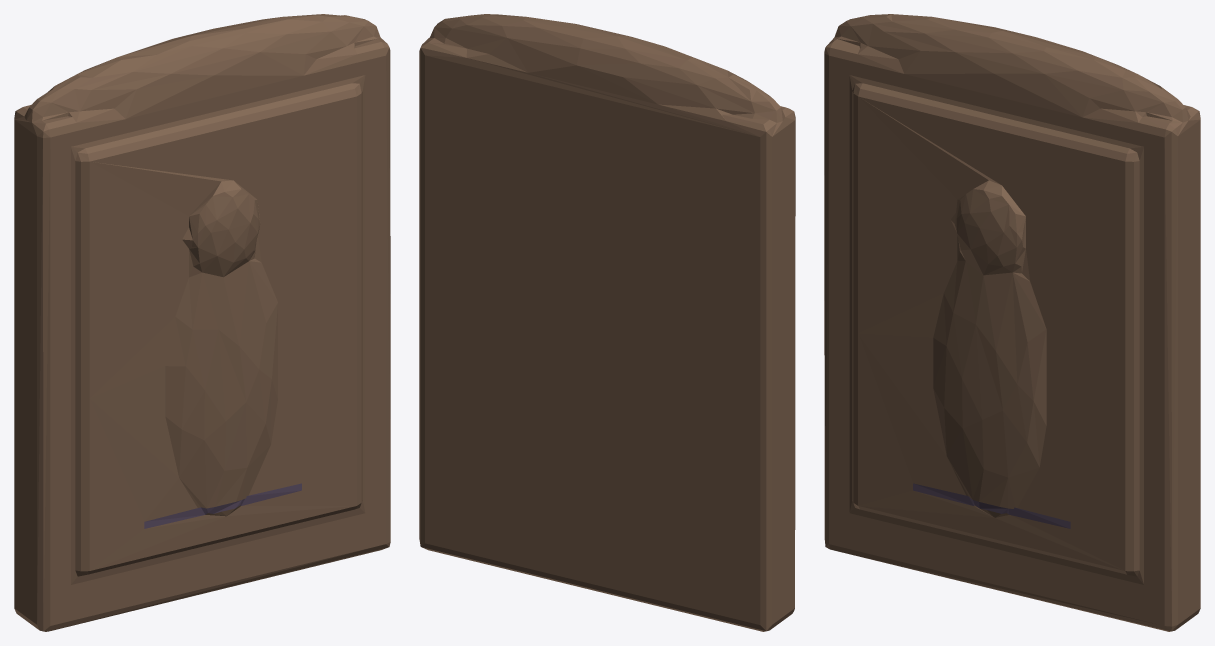
The model's file is memorial_relief.glb.
3 renders of one model, left to right at view 1: azimuth 30°, elevation 25°; view 2: azimuth 150°, elevation 25°; view 3: azimuth 330°, elevation 25°, orthographic.
Parts seen in each view (by area): view 1: memorial_relief; view 2: memorial_relief; view 3: memorial_relief.
Part boxes in pixels (x1=…): memorial_relief: x1=14, y1=14, x2=390, y2=631; memorial_relief: x1=419, y1=14, x2=795, y2=631; memorial_relief: x1=824, y1=14, x2=1200, y2=631.
Bounding box in the file's own units: 1.6 × 2.38 × 0.3487.
